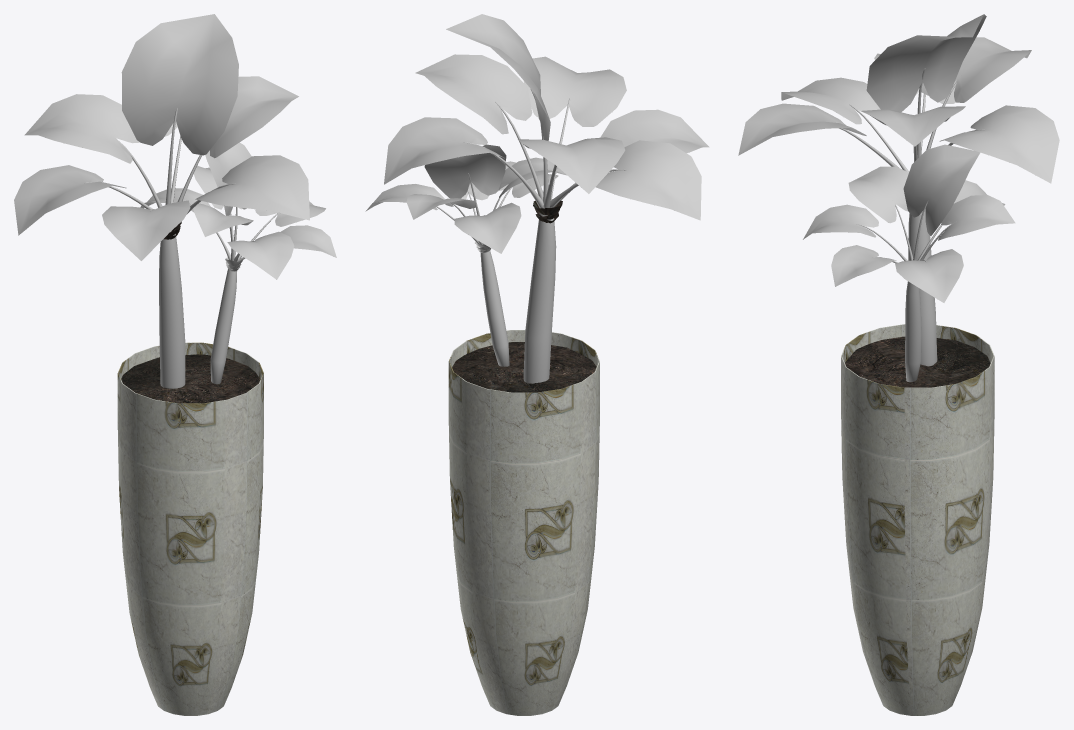
File: houseflower.FBX
The picture shows the model from 3 angles, left to right: view 1: azimuth 30°, elevation 25°; view 2: azimuth 150°, elevation 25°; view 3: azimuth 270°, elevation 25°; orthographic projection. The views are drawn at different scales.
Visible parts, largest first — view 1: houseflower; view 2: houseflower; view 3: houseflower.
Part boxes in pixels (box(x1,y1,x2,y2)): houseflower: box(14, 14, 336, 715); houseflower: box(365, 14, 709, 715); houseflower: box(738, 14, 1059, 715).
Size of the model in its own units: 1.32 by 2.65 by 1.12.
